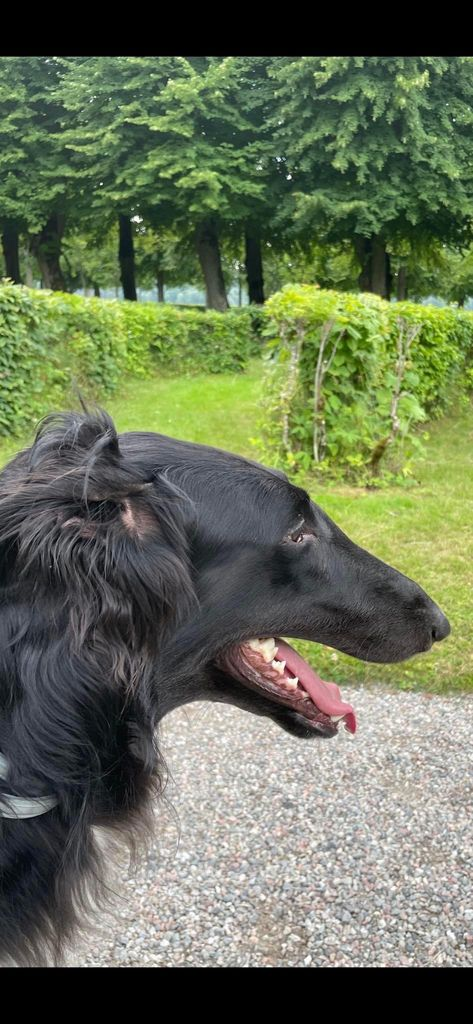borzoi: (2, 375, 448, 966)
